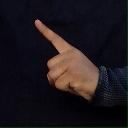hand: (33, 18, 99, 101)
